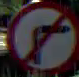Don't turn right: (9, 1, 77, 76)
